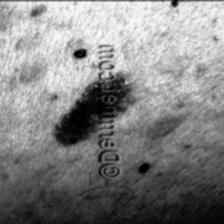Potentially Malignant Skin Tumors: (55, 78, 99, 146), (117, 74, 136, 112), (134, 156, 156, 174), (71, 44, 87, 58)
